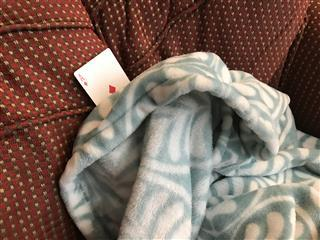AceOfDiamonds: (73, 47, 131, 106)
